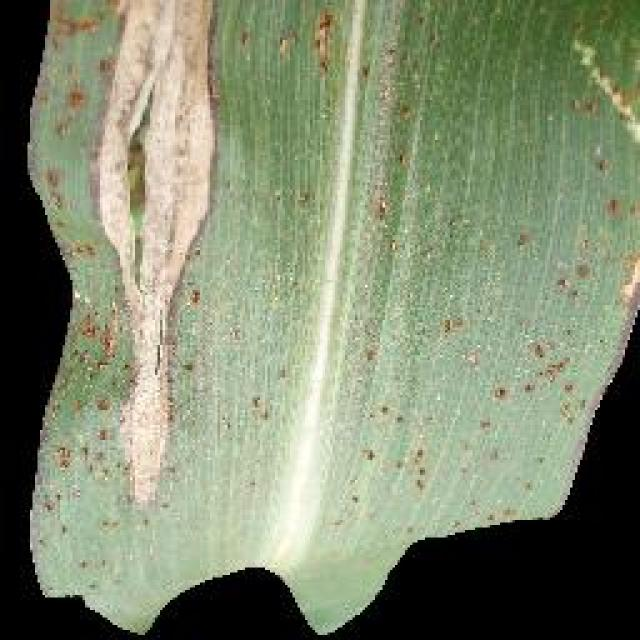Corn___Common_rust: (39, 0, 510, 479)
